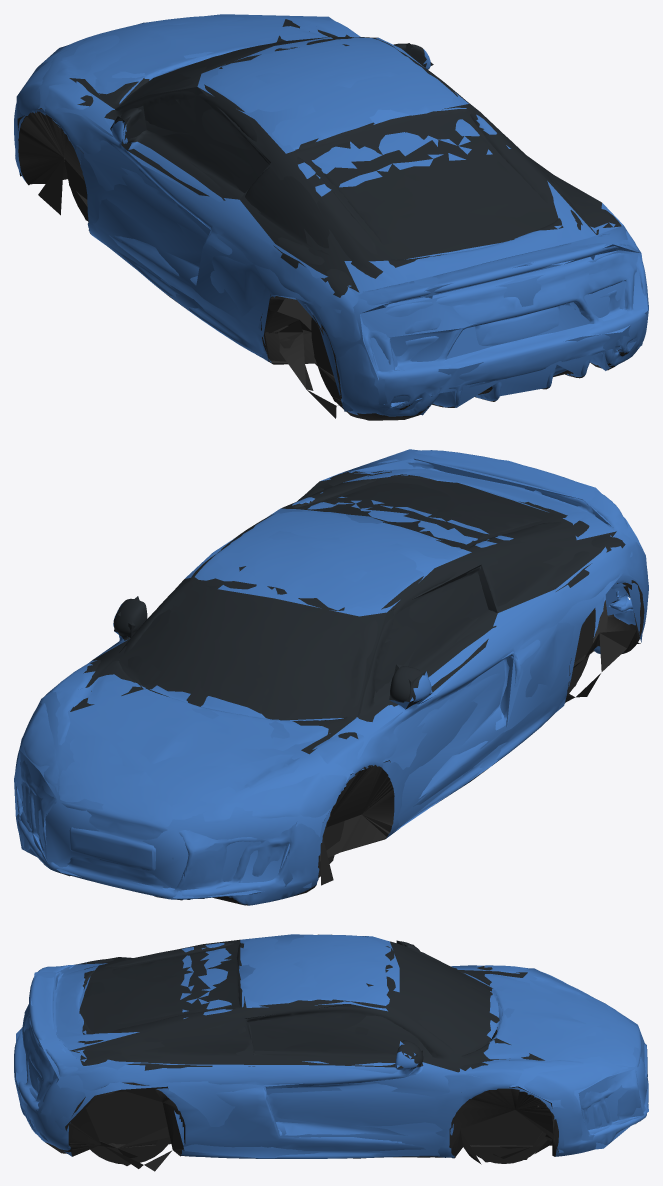
File: audi-r8.glb
3 views of the same model, one above another, from view 1: azimuth 30°, elevation 25°; view 2: azimuth 150°, elevation 25°; view 3: azimuth 270°, elevation 25° (orthographic). The views are drawn at different scales.
Parts seen in each view (by area): view 1: body, far; view 2: body, far; view 3: body, far.
Part boxes in pixels (x1=…): body: x1=14, y1=15, x2=648, y2=420; far: x1=15, y1=14, x2=648, y2=418; body: x1=15, y1=450, x2=648, y2=905; far: x1=14, y1=449, x2=646, y2=898; body: x1=14, y1=934, x2=648, y2=1171; far: x1=16, y1=934, x2=648, y2=1165.
Size of the model in its own units: 1.96 by 1.28 by 4.45.
